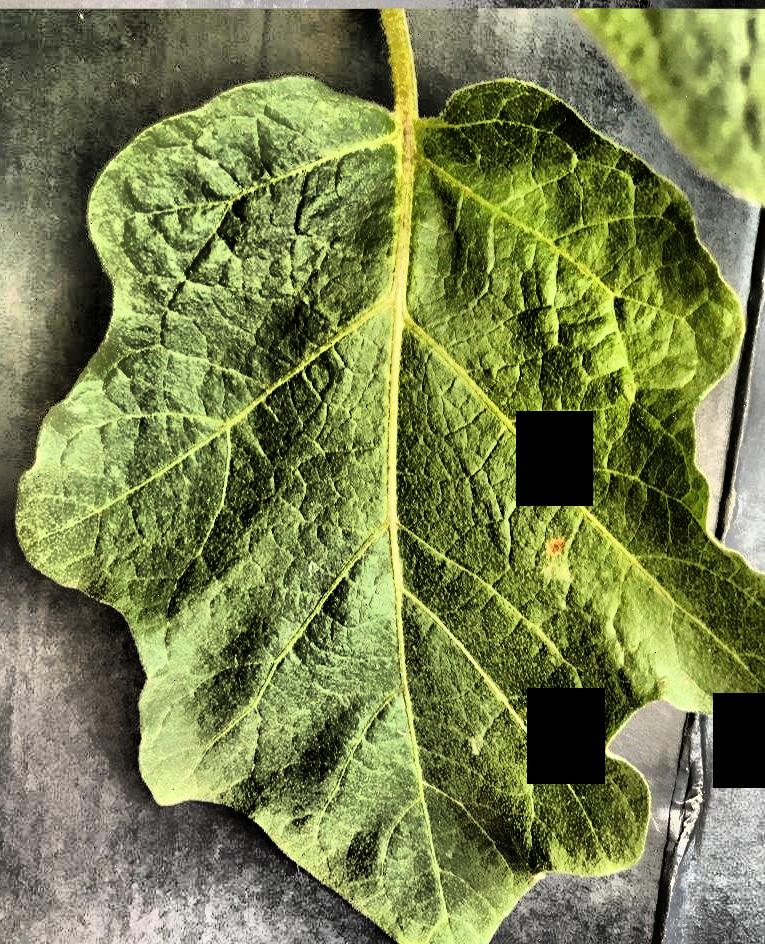HEALTHY: (1, 0, 765, 944)
